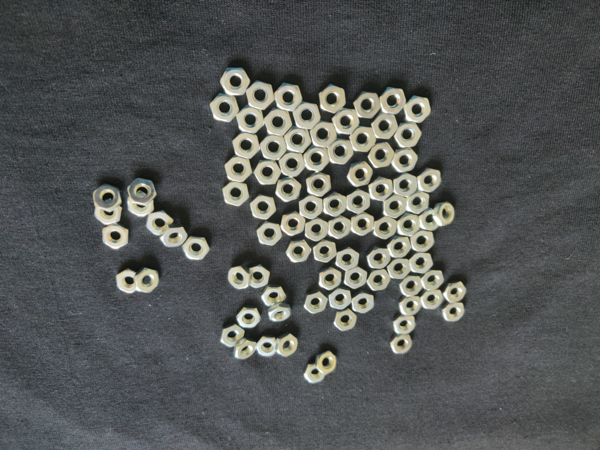nut: (220, 65, 252, 97), (207, 95, 239, 123), (309, 120, 338, 149), (224, 156, 255, 183), (232, 132, 263, 159), (93, 183, 121, 212), (183, 233, 212, 261), (248, 80, 275, 110), (263, 110, 294, 136), (143, 211, 175, 236), (129, 178, 156, 207), (99, 223, 128, 250), (350, 125, 377, 153), (251, 162, 282, 186), (276, 81, 303, 108), (126, 192, 154, 218), (248, 264, 274, 292), (274, 177, 302, 203), (368, 141, 394, 169), (220, 181, 249, 206), (235, 108, 265, 132), (333, 108, 359, 135), (355, 92, 381, 119), (411, 227, 437, 254), (260, 135, 288, 160), (320, 84, 344, 113), (405, 97, 431, 123), (392, 147, 418, 173), (251, 195, 278, 220), (347, 162, 372, 189), (285, 127, 312, 152), (381, 88, 406, 115), (366, 269, 391, 295), (306, 172, 332, 197), (281, 153, 307, 178), (295, 103, 320, 129), (346, 188, 371, 214), (160, 224, 187, 248), (115, 267, 139, 294), (255, 334, 279, 361), (287, 237, 311, 264), (323, 193, 347, 220), (95, 203, 124, 225), (279, 331, 301, 360), (137, 265, 158, 295), (256, 221, 282, 245), (305, 218, 329, 244), (394, 171, 418, 197), (228, 262, 251, 289), (262, 285, 289, 308), (232, 338, 257, 362), (350, 292, 375, 316), (399, 274, 424, 298), (281, 212, 305, 237), (328, 216, 352, 241), (306, 146, 330, 171), (398, 124, 422, 149), (406, 191, 430, 216), (305, 291, 328, 317), (345, 265, 368, 291), (222, 325, 246, 349), (374, 215, 398, 239), (330, 287, 353, 312), (441, 280, 466, 303), (314, 239, 337, 264), (299, 196, 322, 221), (330, 140, 353, 165), (369, 177, 392, 202), (398, 213, 421, 238), (335, 248, 361, 270), (389, 256, 411, 282), (317, 352, 340, 376), (320, 267, 343, 291), (390, 335, 415, 357), (374, 115, 399, 137), (419, 168, 441, 193), (370, 245, 391, 271), (348, 164, 371, 187), (237, 306, 261, 328), (335, 310, 359, 332), (383, 195, 405, 219), (353, 211, 374, 236), (422, 270, 445, 292), (410, 253, 433, 275), (270, 305, 292, 327), (305, 362, 327, 384), (421, 290, 442, 313), (268, 305, 293, 324), (392, 315, 417, 334), (436, 201, 455, 226), (399, 296, 421, 317), (444, 302, 465, 323), (420, 208, 440, 230)
